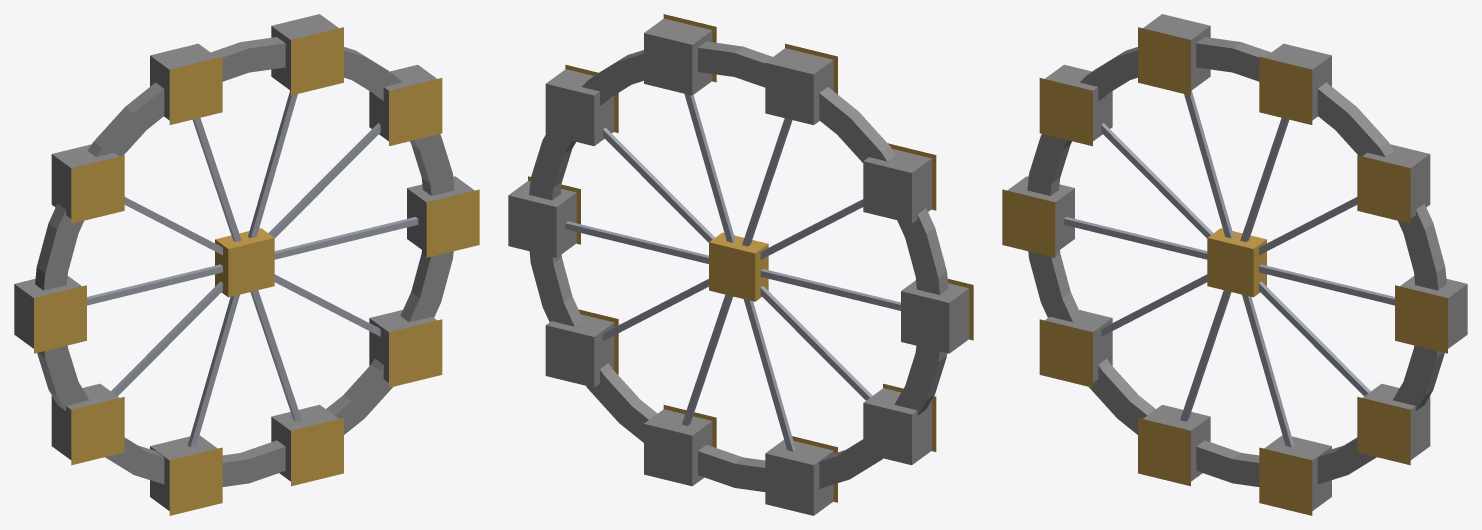
Rendered from enterprise.obj.
The picture shows the model from 3 angles, left to right: view 1: azimuth 30°, elevation 25°; view 2: azimuth 150°, elevation 25°; view 3: azimuth 330°, elevation 25°; orthographic projection.
Bounding box in the file's own units: 7.72 × 7.39 × 0.66.
